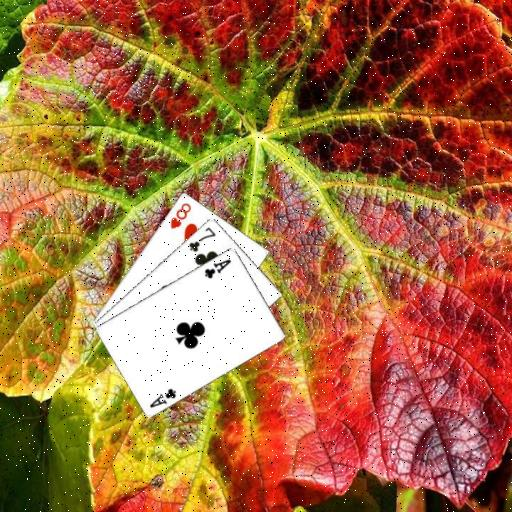7C: (185, 223, 217, 253)
8H: (167, 200, 193, 230)
AC: (201, 256, 233, 280), (146, 385, 178, 409)
